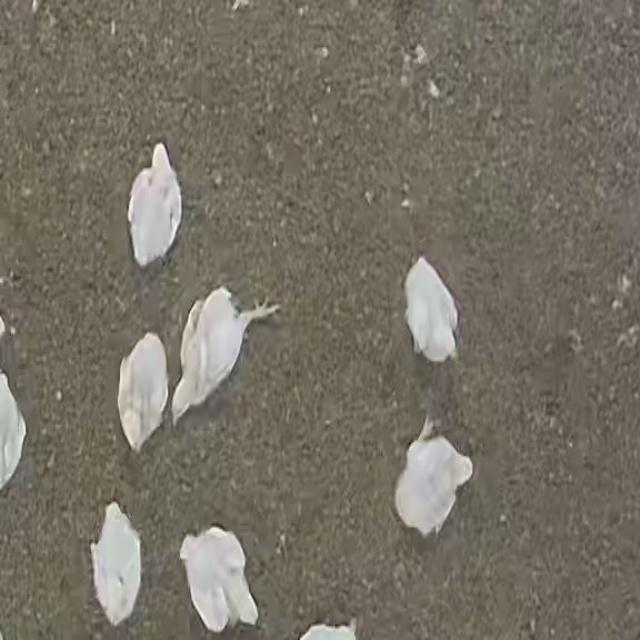chicken: (170, 284, 280, 424), (394, 414, 474, 538), (179, 525, 259, 634), (89, 501, 144, 628), (128, 148, 186, 268), (116, 332, 170, 451), (407, 257, 458, 368), (0, 362, 25, 489)
